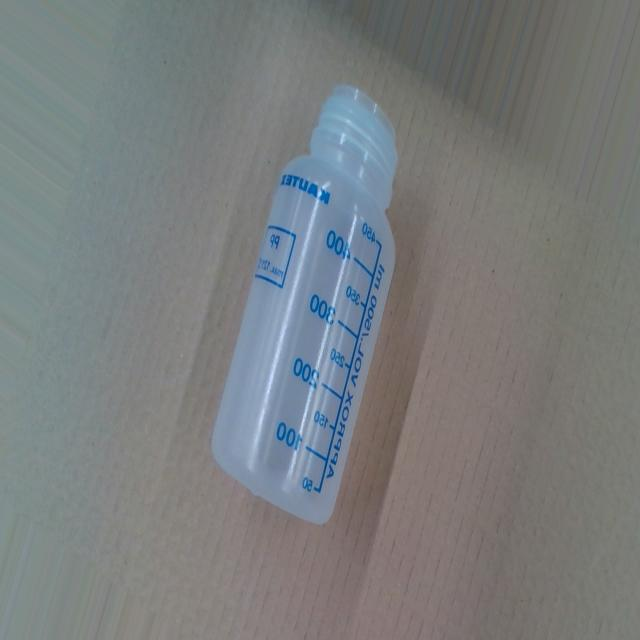bottle: (208, 81, 400, 528)
